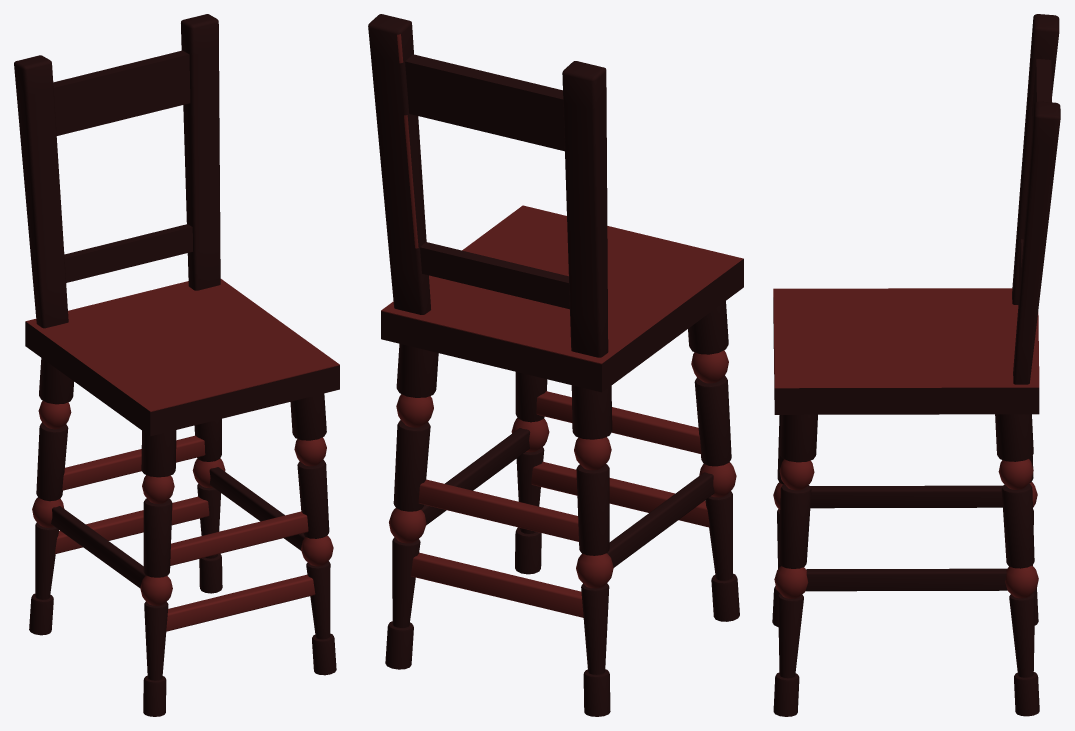
Rendered from Chair.FBX.
3 views of the same model, side by side, from view 1: azimuth 30°, elevation 25°; view 2: azimuth 150°, elevation 25°; view 3: azimuth 270°, elevation 25° (orthographic). The views are drawn at different scales.
Parts seen in each view (by area): view 1: Chair; view 2: Chair; view 3: Chair.
Part boxes in pixels (left/top/right/bottom): Chair: left=14, top=14, right=339, bottom=716; Chair: left=368, top=14, right=743, bottom=716; Chair: left=772, top=14, right=1060, bottom=716.
Bounding box in the file's own units: 14.62 × 40.1 × 17.36.
